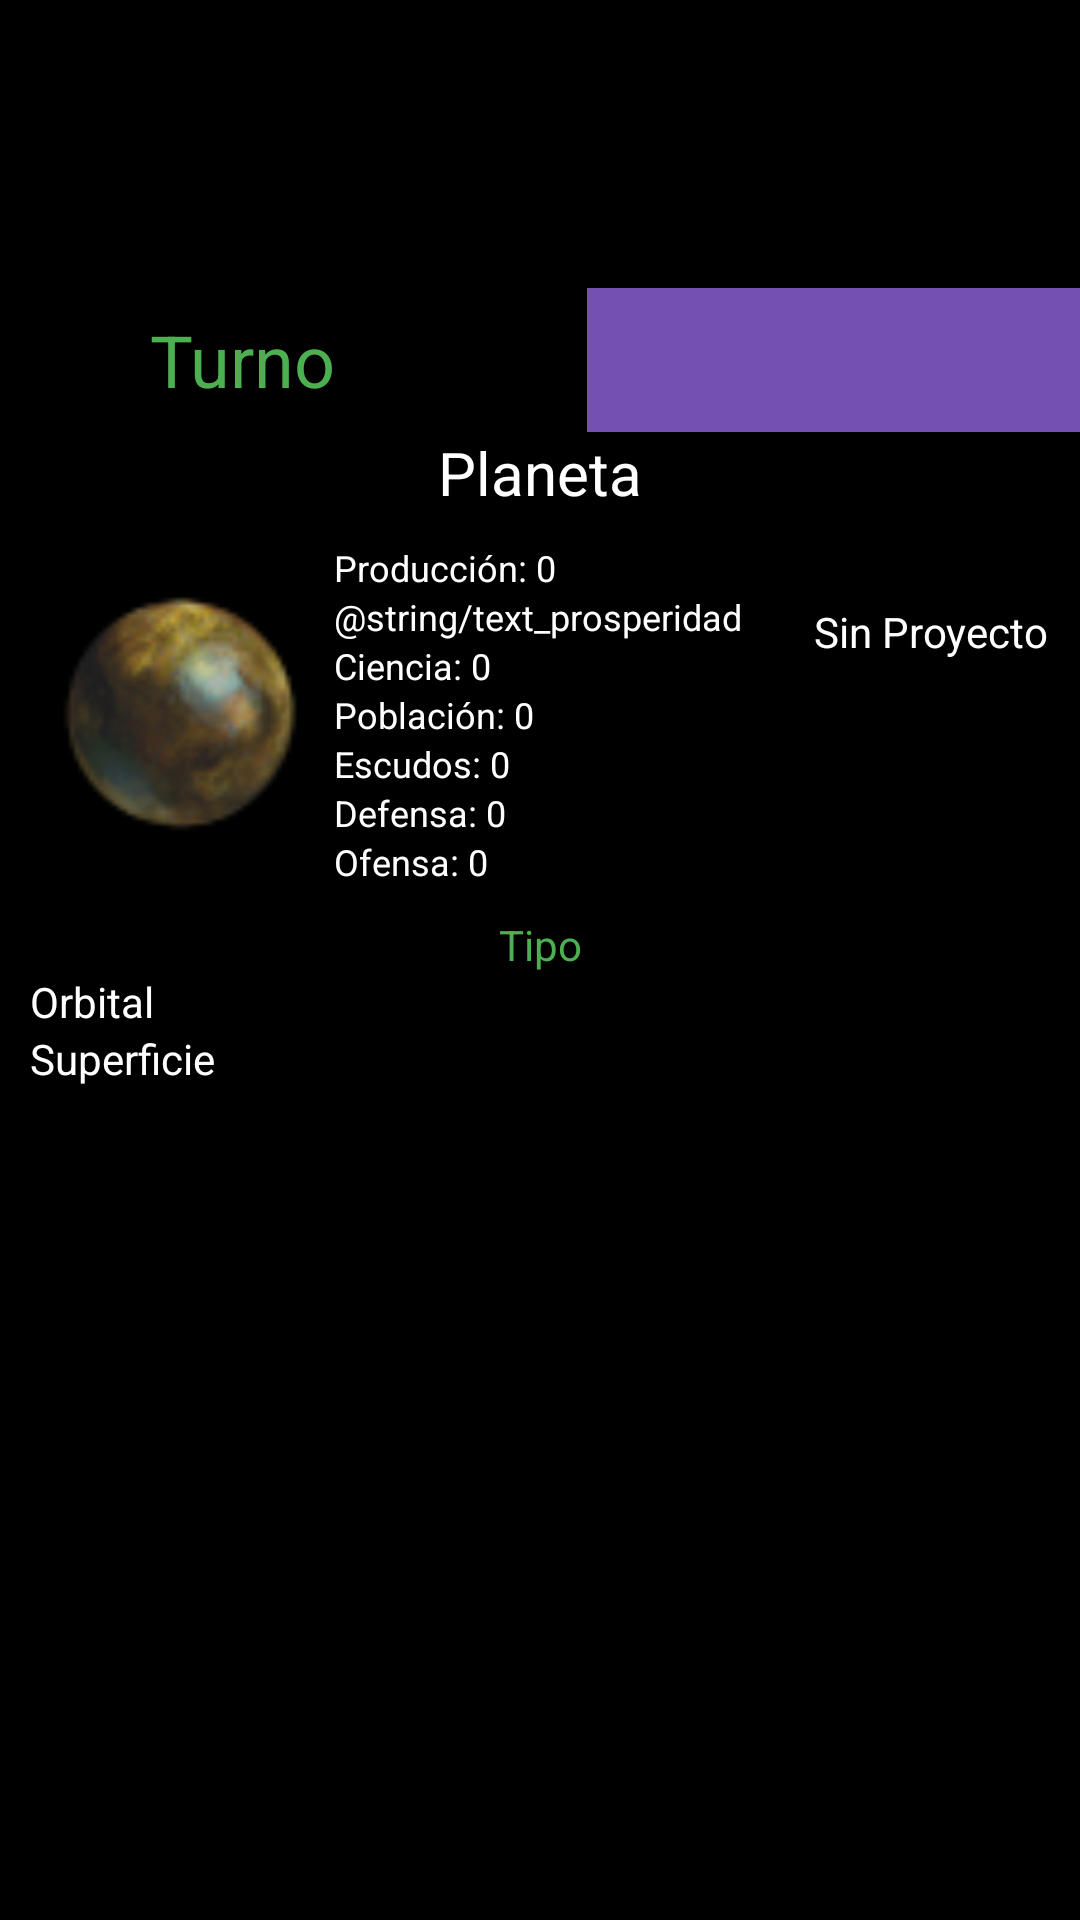

Named icons in this screenshot (1080px x 1920px) and their bounding boxes, (x1, y1, x2, y2):
planet congenial: (67, 598, 296, 827)
